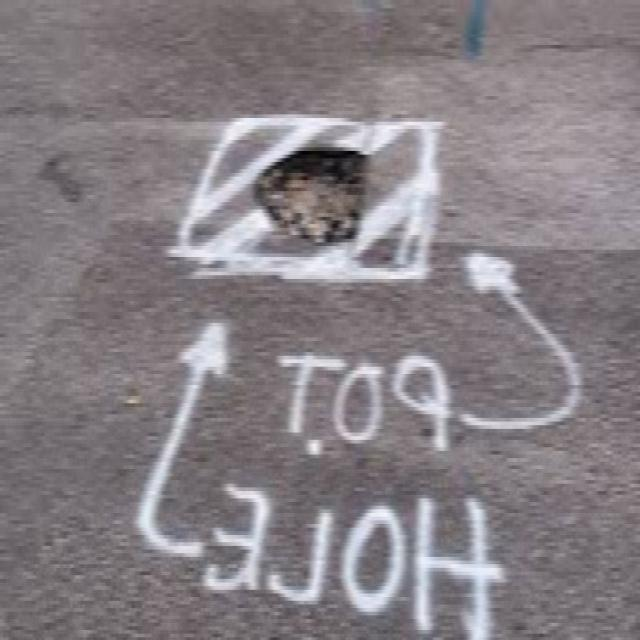Pothole: (245, 137, 368, 257)
